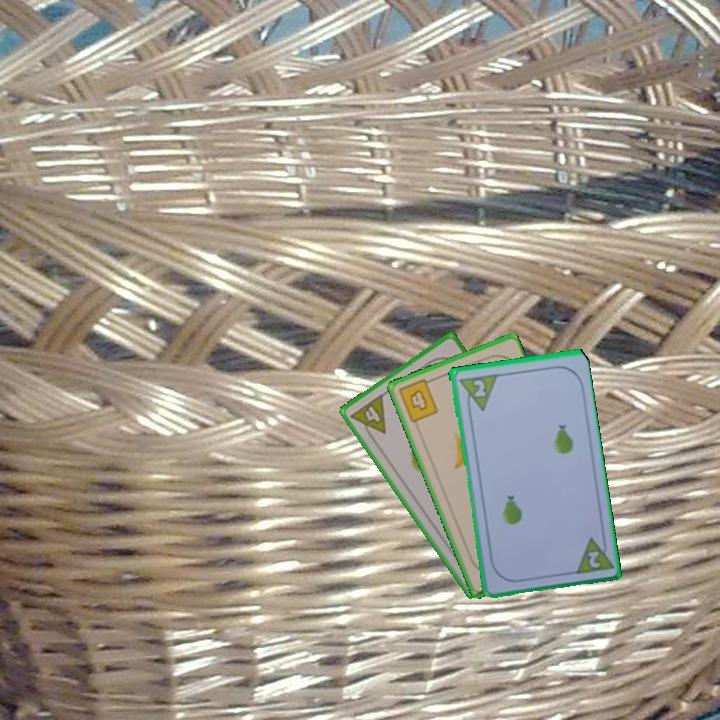2p: (570, 531, 615, 577), (455, 370, 499, 415)
4b: (394, 375, 441, 426)
4p: (347, 390, 389, 444)
